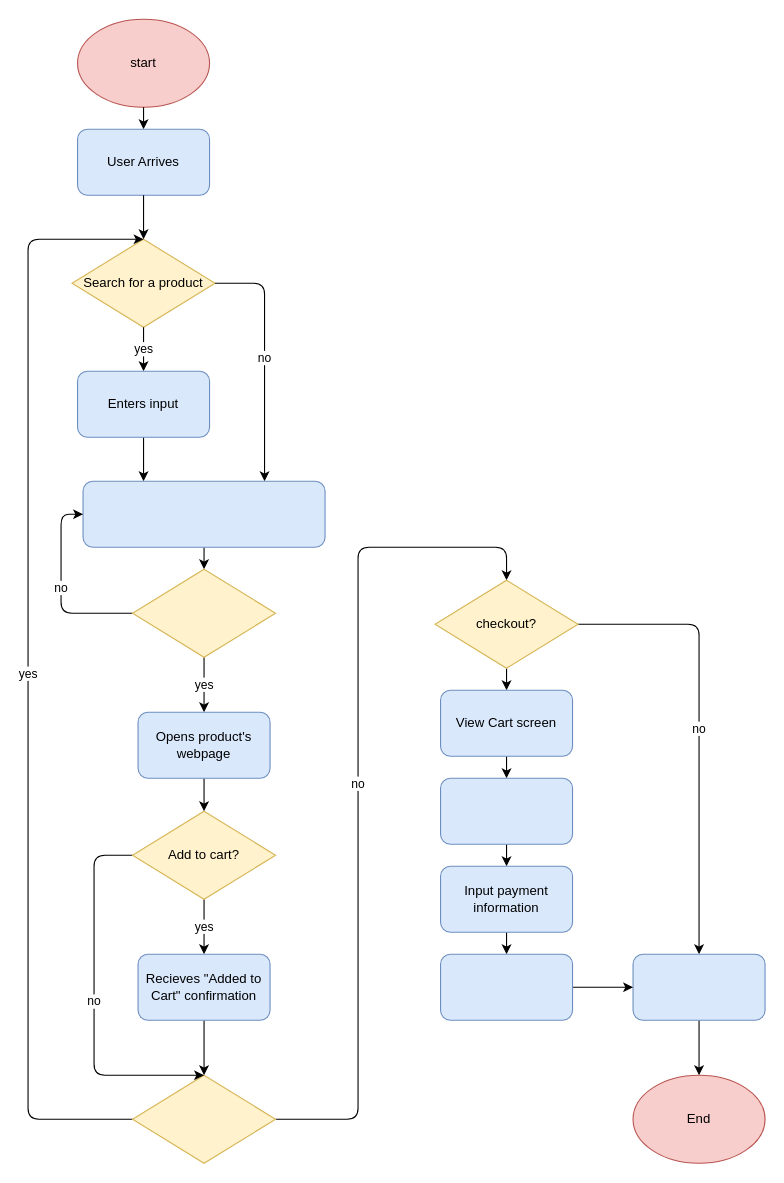
Image size: 784x1183. Some labels were removed from this diagram. Here are the shapes that lost their labels. From the top down, the centre of each, then its label:
the point at 203,513: Looks over products
the point at 203,612: View product?
the point at 506,810: View Payment screen
the point at 506,986: Order Confirmation screen/email sent
the point at 698,986: Leaves website
the point at 203,1118: Continue Shopping?
